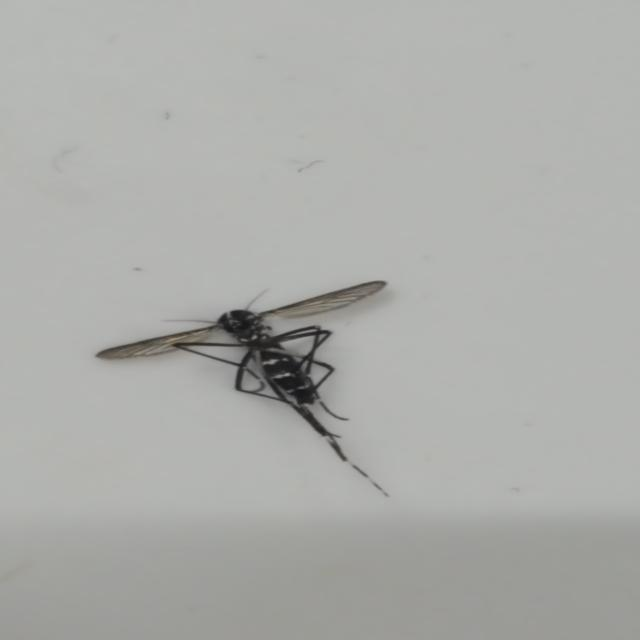albopictus: (106, 281, 399, 496)
